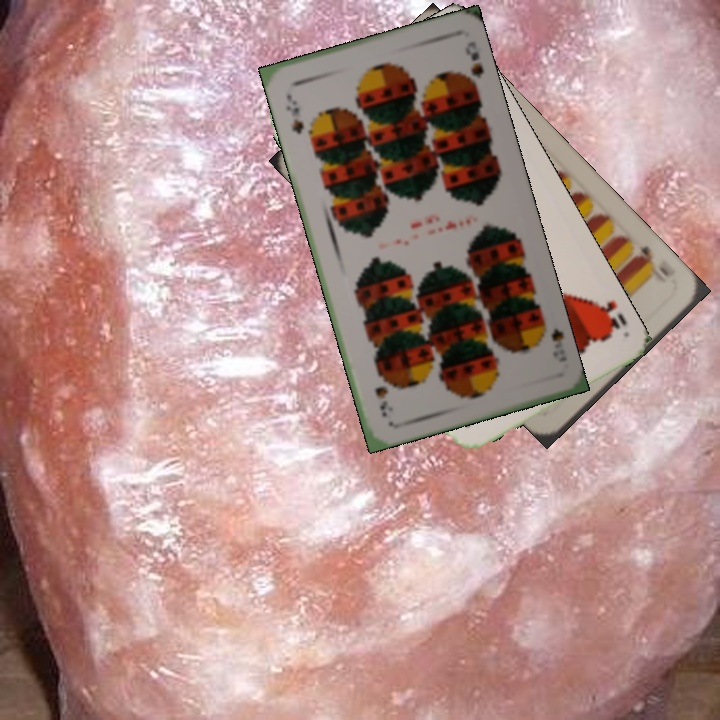E10: (630, 241, 671, 286)
HO: (588, 293, 630, 340)
S9: (281, 90, 307, 136), (536, 314, 565, 352)
